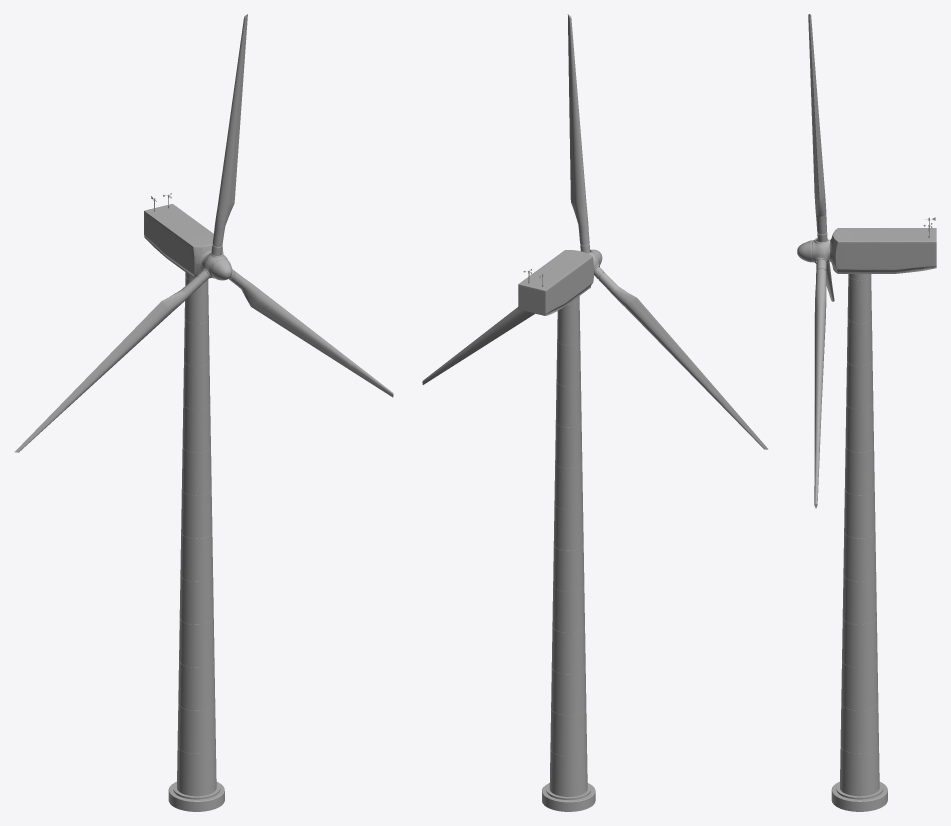
The picture shows the model from 3 angles, left to right: view 1: azimuth 30°, elevation 25°; view 2: azimuth 150°, elevation 25°; view 3: azimuth 270°, elevation 25°; orthographic projection. The views are drawn at different scales.
Parts seen in each view (by area): view 1: 柱子, 风机, 扇叶3, 扇叶1, 扇叶2, 底座; view 2: 柱子, 风机, 扇叶3, 扇叶1, 扇叶2, 底座; view 3: 柱子, 风机, 扇叶2, 扇叶1, 底座, Rotor.
Part boxes in pixels (bbox=[...]): 柱子: bbox=[173, 272, 220, 799]; 风机: bbox=[144, 204, 223, 277]; 扇叶3: bbox=[14, 269, 209, 452]; 扇叶1: bbox=[211, 14, 247, 255]; 扇叶2: bbox=[228, 269, 393, 397]; 底座: bbox=[168, 781, 224, 811]; 柱子: bbox=[546, 296, 590, 799]; 风机: bbox=[518, 250, 593, 315]; 扇叶3: bbox=[594, 266, 768, 449]; 扇叶1: bbox=[567, 14, 590, 253]; 扇叶2: bbox=[422, 307, 534, 384]; 底座: bbox=[542, 783, 595, 811]; 柱子: bbox=[836, 274, 883, 799]; 风机: bbox=[830, 228, 936, 273]; 扇叶2: bbox=[814, 259, 826, 508]; 扇叶1: bbox=[808, 14, 827, 242]; 底座: bbox=[831, 781, 887, 811]; Rotor: bbox=[797, 237, 829, 263].
Size of the model in its own units: 0.5051 by 1.04 by 0.1647.
Materials: 2 (2 with a texture image).
